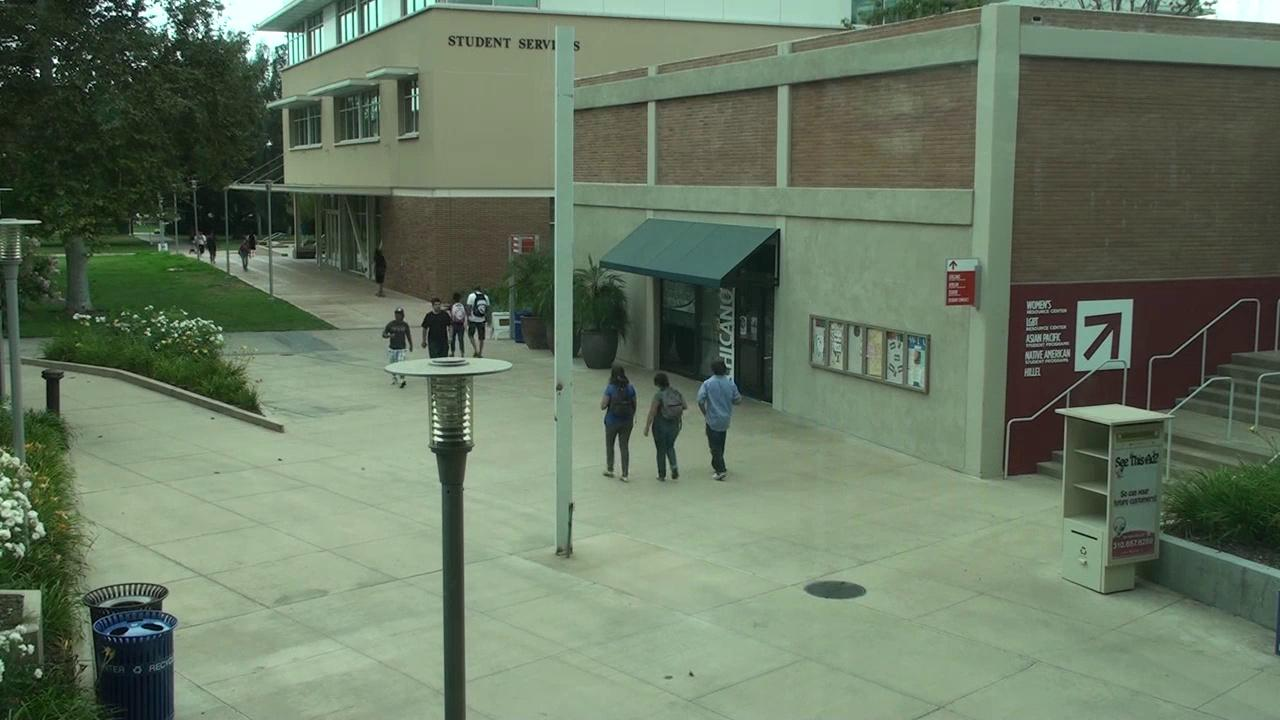person: (697, 359, 741, 480), (602, 367, 637, 481), (646, 405, 678, 479), (464, 286, 491, 356), (421, 297, 450, 357), (383, 308, 412, 361), (449, 294, 467, 355), (660, 388, 684, 422), (392, 375, 406, 385)
